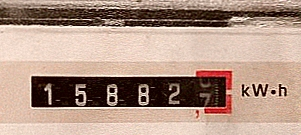1: (41, 79, 53, 106)
2: (165, 80, 181, 105)
5: (72, 81, 86, 107)
7: (196, 89, 211, 106)
8: (103, 81, 119, 106), (135, 81, 150, 106)
screen: (20, 63, 239, 122)
